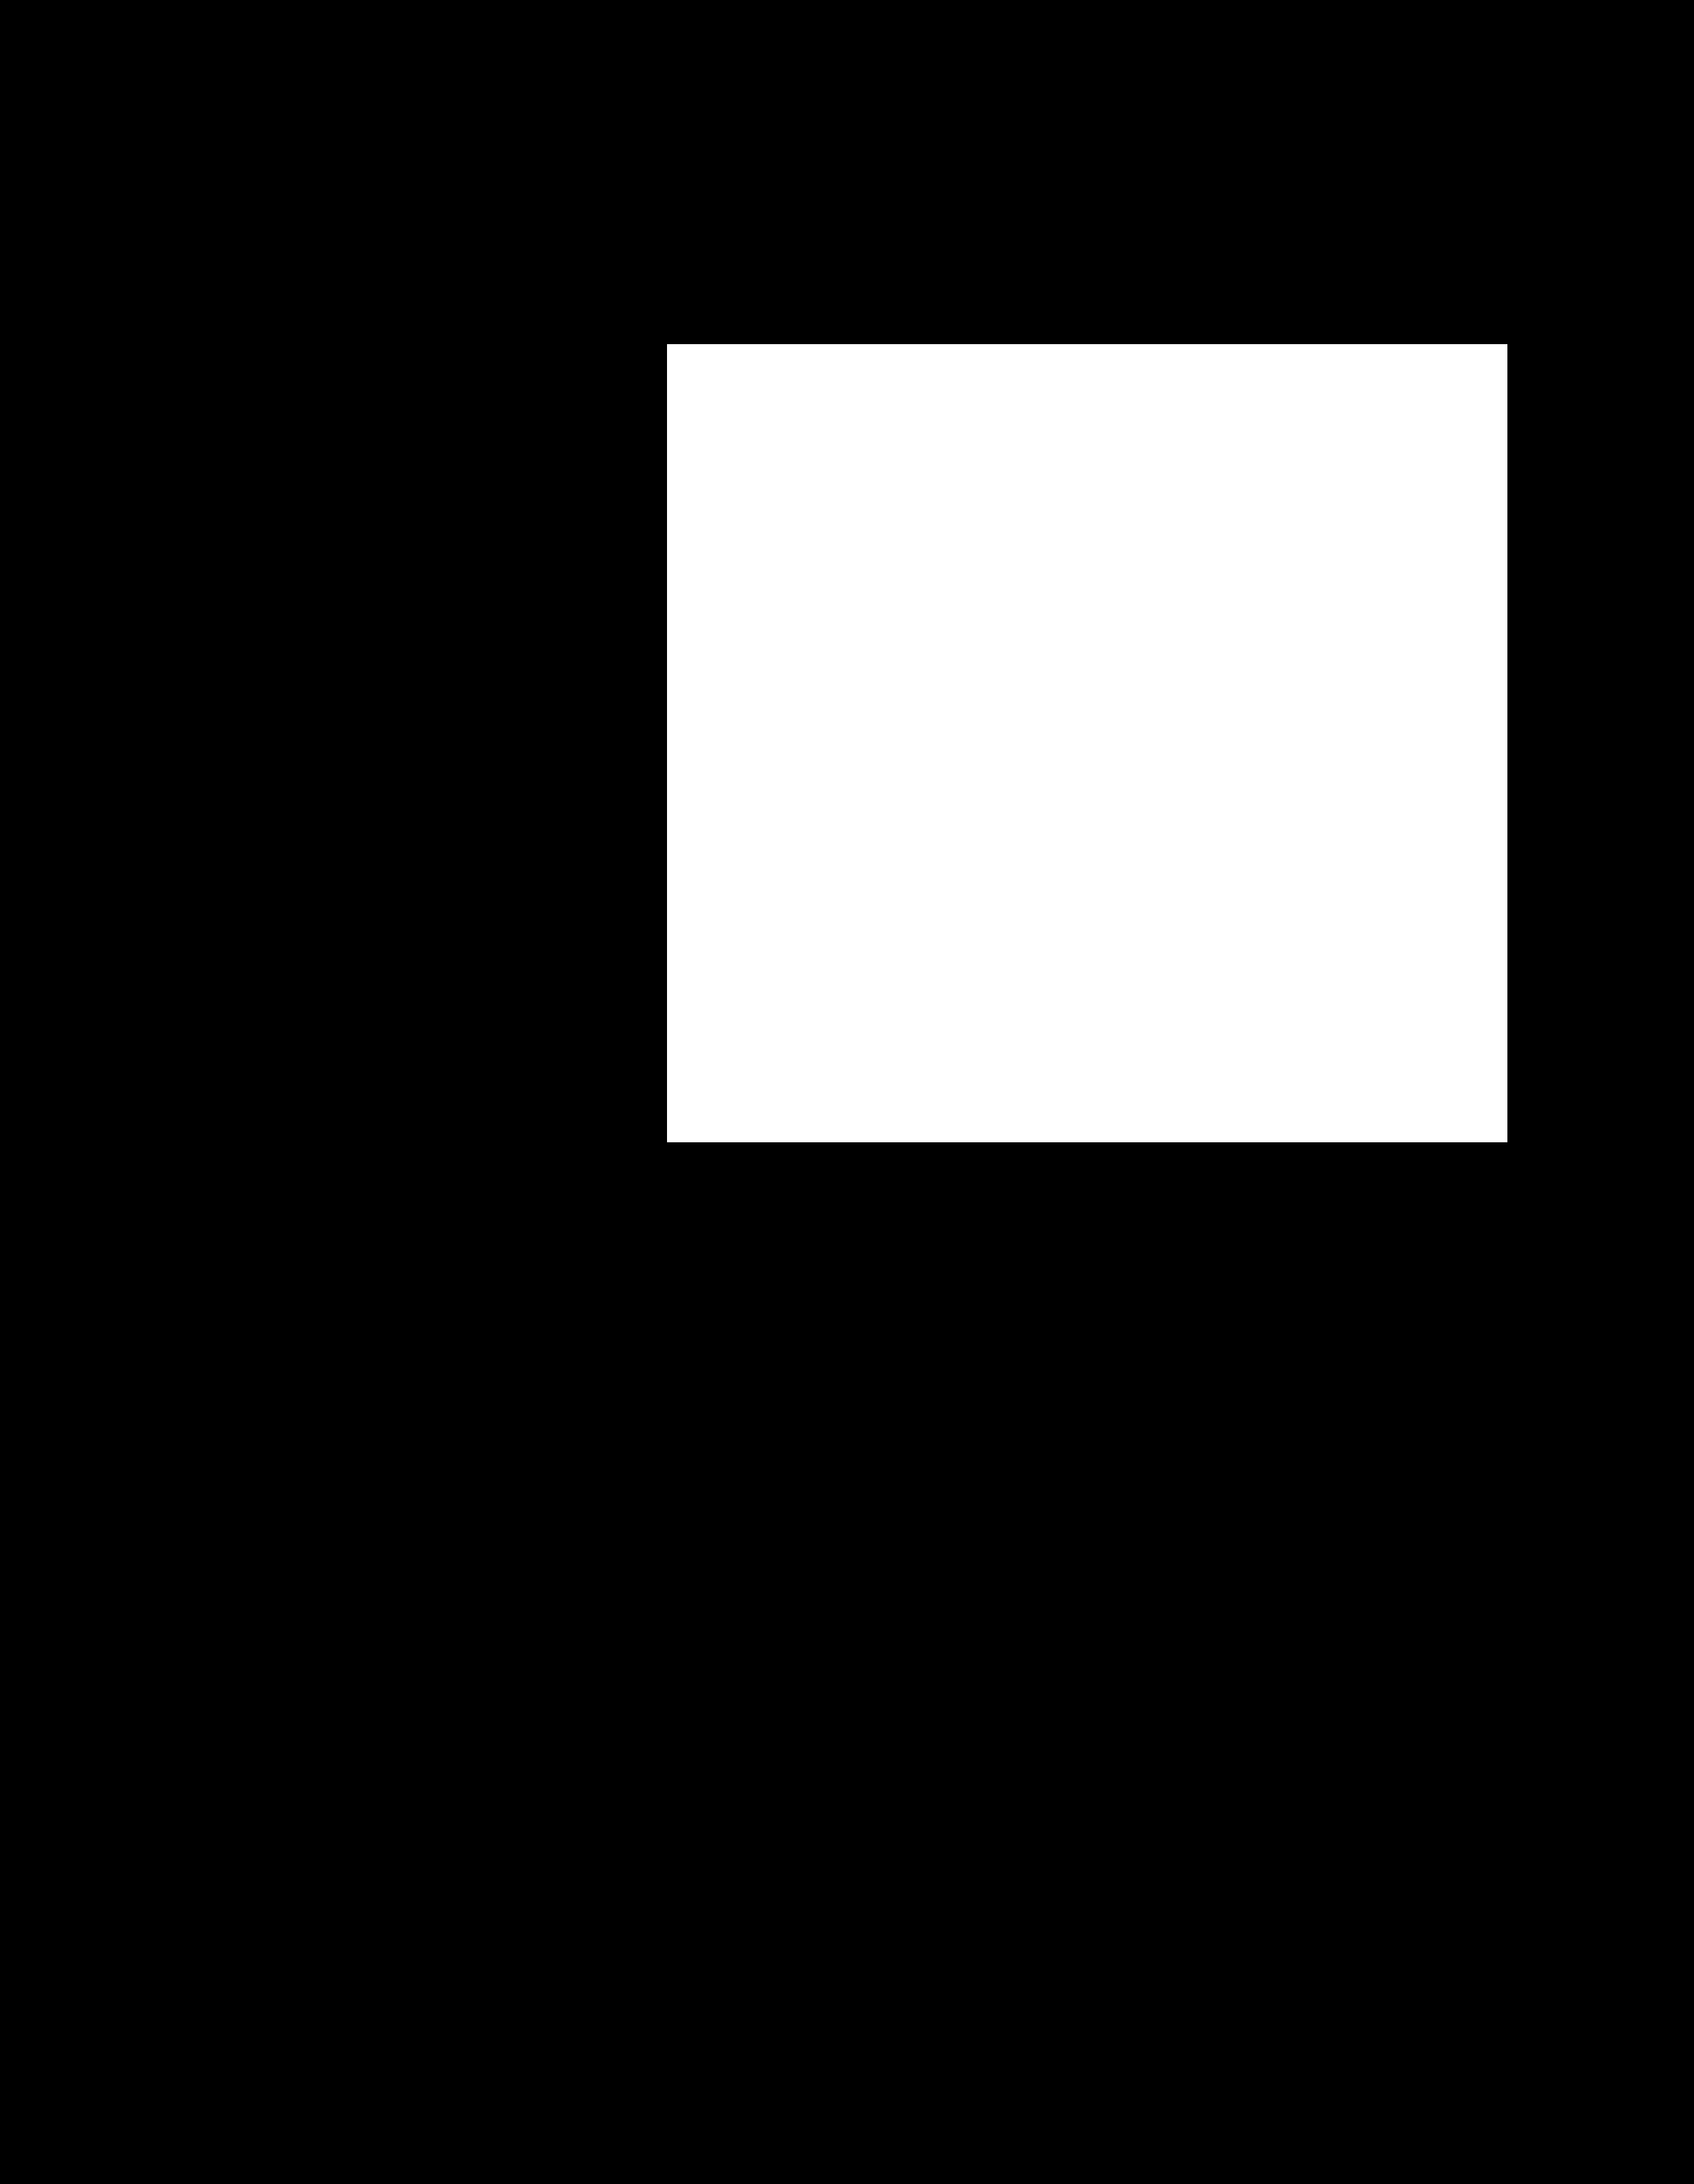table: (666, 344, 1506, 1142)
